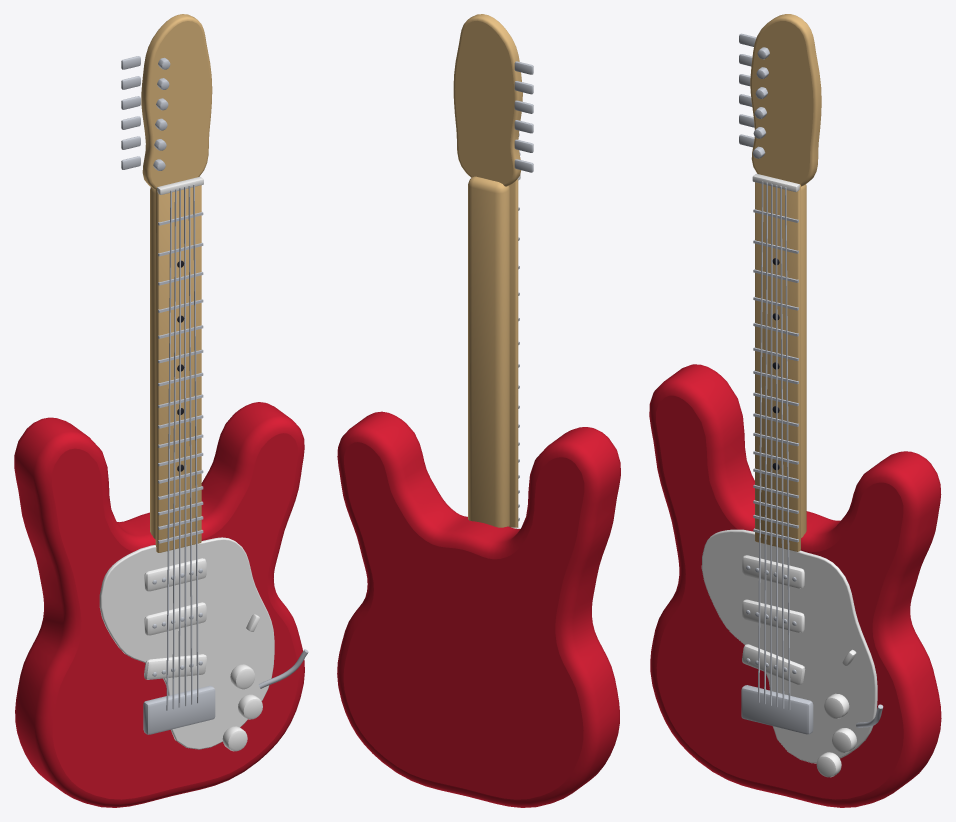
File: ElectricGuitar.fbx
3 renders of one model, left to right at view 1: azimuth 30°, elevation 25°; view 2: azimuth 150°, elevation 25°; view 3: azimuth 330°, elevation 25°, orthographic. The views are drawn at different scales.
Visible parts, largest first — view 1: Paint, Maple, White, Chrome; view 2: Paint, Maple, Chrome; view 3: Paint, Maple, White, Chrome.
Boxes of the visible parts, <box> form: Paint: <box>14,402,304,807</box>; Maple: <box>141,14,212,552</box>; White: <box>99,177,274,751</box>; Chrome: <box>121,56,308,734</box>; Paint: <box>337,411,620,807</box>; Maple: <box>453,14,522,527</box>; Chrome: <box>514,61,533,521</box>; Paint: <box>649,364,941,807</box>; Maple: <box>750,14,821,551</box>; White: <box>701,173,877,777</box>; Chrome: <box>739,33,883,734</box>.
Bounding box in the file's own units: 141 × 390 × 43.13.
